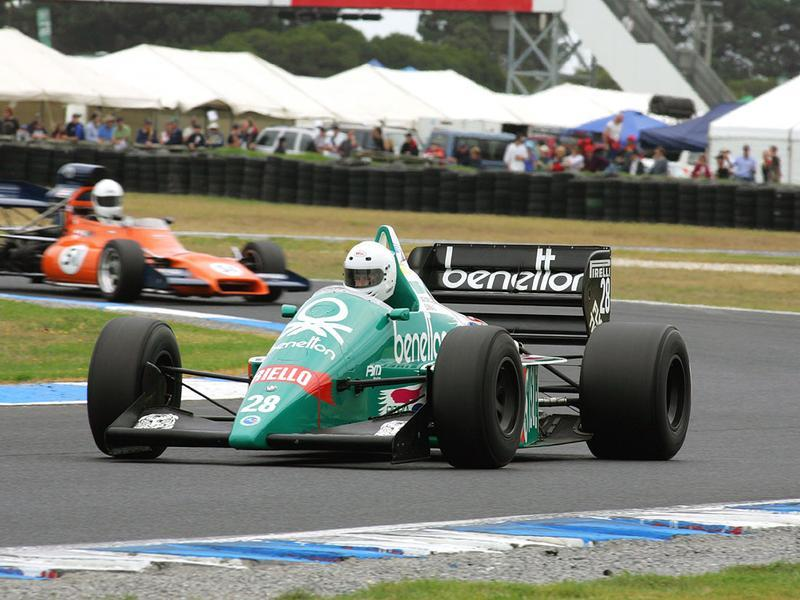f1: (99, 213, 700, 487), (4, 146, 297, 305)
